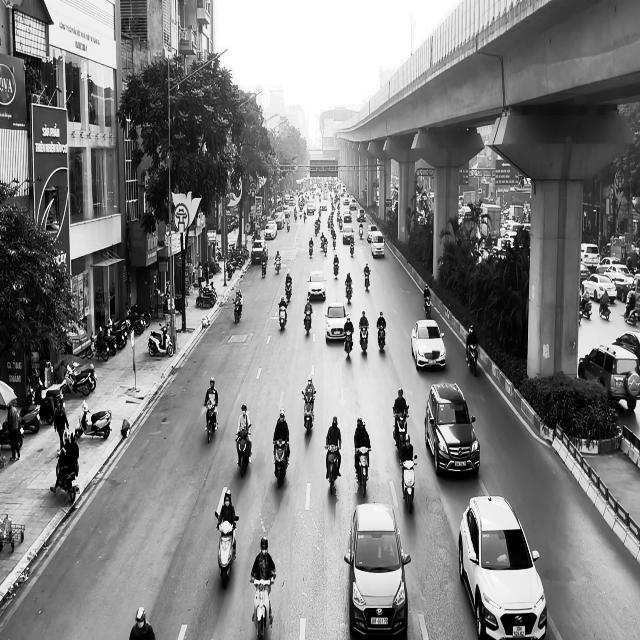car: (458, 495, 547, 639), (344, 502, 411, 638), (424, 382, 480, 476), (410, 319, 446, 370), (325, 301, 348, 343), (306, 269, 326, 300)
motorbike: (250, 571, 276, 639), (215, 513, 238, 589), (75, 399, 112, 440), (55, 449, 79, 503), (399, 454, 417, 514), (148, 322, 174, 357), (354, 446, 371, 497), (273, 438, 290, 488), (235, 427, 252, 477), (324, 443, 340, 494), (392, 406, 409, 454), (301, 391, 316, 436), (203, 402, 218, 443), (466, 342, 478, 376), (343, 329, 353, 358), (358, 324, 368, 352), (232, 297, 242, 323), (377, 324, 386, 352), (278, 302, 287, 330), (304, 307, 312, 335), (599, 300, 610, 320), (424, 296, 431, 318), (363, 270, 370, 291), (345, 281, 352, 302), (285, 281, 292, 301), (333, 257, 339, 279), (261, 258, 267, 278), (274, 258, 281, 274), (350, 239, 354, 257)
